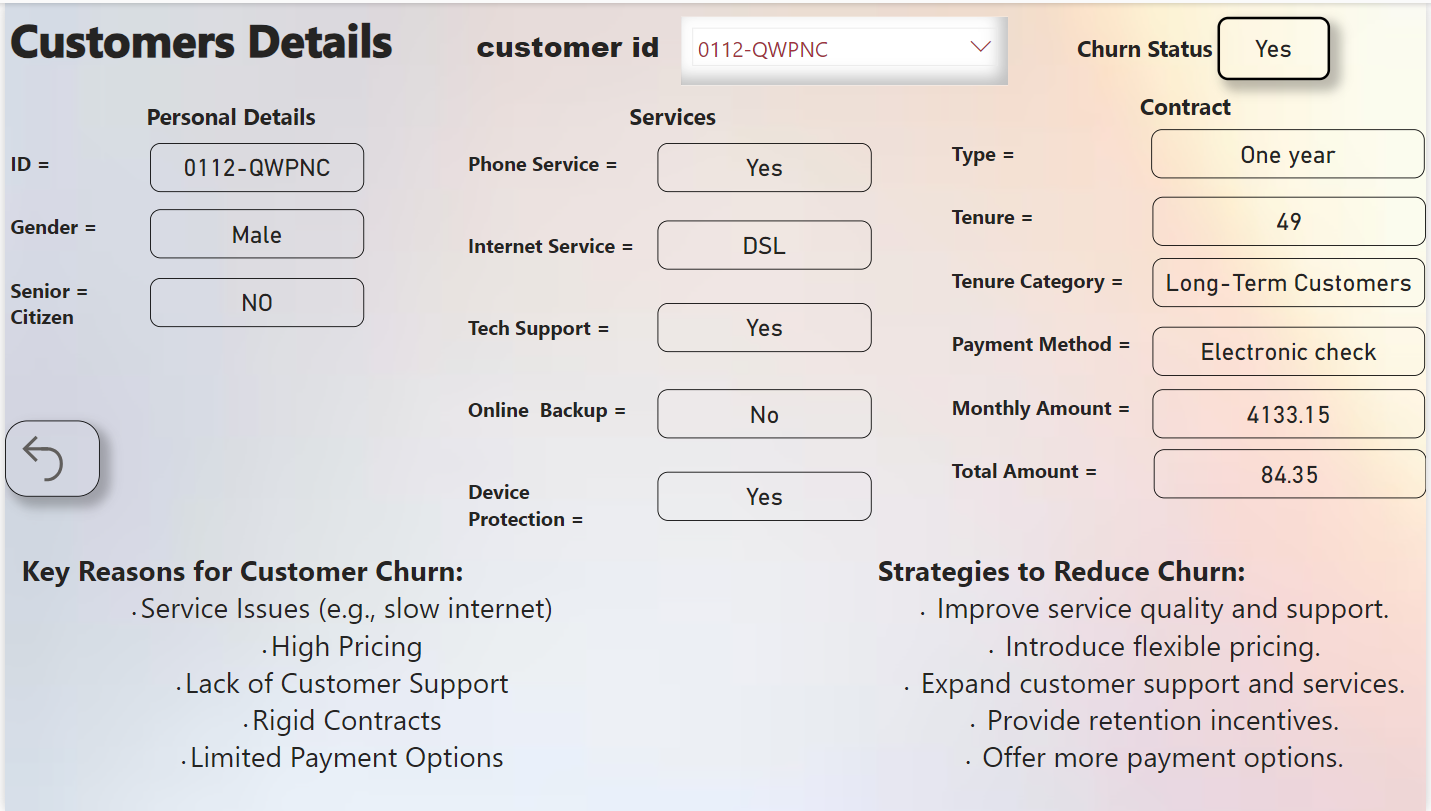

This screenshot's page, from the dashboard's own definition file:
{"tool":"powerbi","page":{"name":"Customer Details Report","canvas":[1343,764],"ordinal":2},"visuals":[{"type":"textbox","box":[0,0,1342,78.1],"z":0},{"type":"slicer","fields":{"Values":["Customer Churn Data.customerID"]},"box":[639.4,13.3,308.8,65.1],"z":1000},{"type":"card","fields":{"Values":["Min(Customer Churn Data.Churn)"]},"box":[1145.7,12.8,106.3,60.2],"z":2000},{"type":"textbox","box":[0,87.1,432.7,238.1],"z":3000},{"type":"card","fields":{"Values":["Min(Customer Churn Data.customerID)"]},"box":[137,131.9,202.3,46.1],"z":4000},{"type":"card","fields":{"Values":["Min(Customer Churn Data.gender)"]},"box":[137,194.6,202.3,46.1],"z":5000},{"type":"card","fields":{"Values":["Min(Customer Churn Data.SeniorCitizen)"]},"box":[137,259.9,202.3,46.1],"z":6000},{"type":"textbox","box":[432.7,87.1,396.9,425],"z":7000},{"type":"card","fields":{"Values":["Min(Customer Churn Data.PhoneService)"]},"box":[617,131.9,202.3,46.1],"z":8000},{"type":"card","fields":{"Values":["Min(Customer Churn Data.InternetService)"]},"box":[617,206.1,202.3,46.1],"z":9000},{"type":"card","fields":{"Values":["Min(Customer Churn Data.TechSupport)"]},"box":[617,282.9,202.3,46.1],"z":10000},{"type":"card","fields":{"Values":["Min(Customer Churn Data.OnlineBackup)"]},"box":[617,364.8,202.3,46.1],"z":11000},{"type":"card","fields":{"Values":["Min(Customer Churn Data.DeviceProtection)"]},"box":[617,442.9,202.3,46.1],"z":12000},{"type":"textbox","box":[889.7,78.1,451.9,434],"z":13000},{"type":"card","fields":{"Values":["Min(Customer Churn Data.Contract)"]},"box":[1083,119.1,258.6,46.1],"z":14000},{"type":"card","fields":{"Values":["Min(Customer Churn Data.tenure)"]},"box":[1084.3,183.1,258.6,46.1],"z":15000},{"type":"card","fields":{"Values":["Min(Customer Churn Data.Tenure Category)"]},"box":[1084.3,240.7,257.3,46.1],"z":16000},{"type":"card","fields":{"Values":["Min(Customer Churn Data.PaymentMethod)"]},"box":[1084.3,306,257.3,46.1],"z":17000},{"type":"card","fields":{"Values":["Min(Customer Churn Data.MonthlyCharges)"]},"box":[1085.6,421.2,257.3,46.1],"z":18000},{"type":"card","fields":{"Values":["Min(Customer Churn Data.TotalCharges)"]},"box":[1084.3,364.8,257.3,46.1],"z":19000},{"type":"textbox","box":[10.2,512.1,606.8,252.2],"z":21000},{"type":"textbox","box":[819.3,512.1,523.6,252.2],"z":22000},{"type":"actionButton","box":[0,394.3,89.6,71.7],"z":23000}]}

Visuals, with their boxes in screenshot pixels (x1, y1, x2, y2), scaled from the page's 1343x764 canvas onto the 1431x811 screenshot:
textbox: bbox(0, 0, 1430, 83)
slicer - Customer Churn Data.customerID: bbox(681, 14, 1010, 83)
card - Min(Customer Churn Data.Churn): bbox(1221, 14, 1334, 77)
textbox: bbox(0, 92, 461, 345)
card - Min(Customer Churn Data.customerID): bbox(146, 140, 362, 189)
card - Min(Customer Churn Data.gender): bbox(146, 207, 362, 256)
card - Min(Customer Churn Data.SeniorCitizen): bbox(146, 276, 362, 325)
textbox: bbox(461, 92, 884, 544)
card - Min(Customer Churn Data.PhoneService): bbox(657, 140, 873, 189)
card - Min(Customer Churn Data.InternetService): bbox(657, 219, 873, 268)
card - Min(Customer Churn Data.TechSupport): bbox(657, 300, 873, 349)
card - Min(Customer Churn Data.OnlineBackup): bbox(657, 387, 873, 436)
card - Min(Customer Churn Data.DeviceProtection): bbox(657, 470, 873, 519)
textbox: bbox(948, 83, 1430, 544)
card - Min(Customer Churn Data.Contract): bbox(1154, 126, 1430, 175)
card - Min(Customer Churn Data.tenure): bbox(1155, 194, 1430, 243)
card - Min(Customer Churn Data.Tenure Category): bbox(1155, 256, 1430, 304)
card - Min(Customer Churn Data.PaymentMethod): bbox(1155, 325, 1430, 374)
card - Min(Customer Churn Data.MonthlyCharges): bbox(1157, 447, 1430, 496)
card - Min(Customer Churn Data.TotalCharges): bbox(1155, 387, 1430, 436)
textbox: bbox(11, 544, 657, 810)
textbox: bbox(873, 544, 1430, 810)
actionButton: bbox(0, 419, 95, 495)
